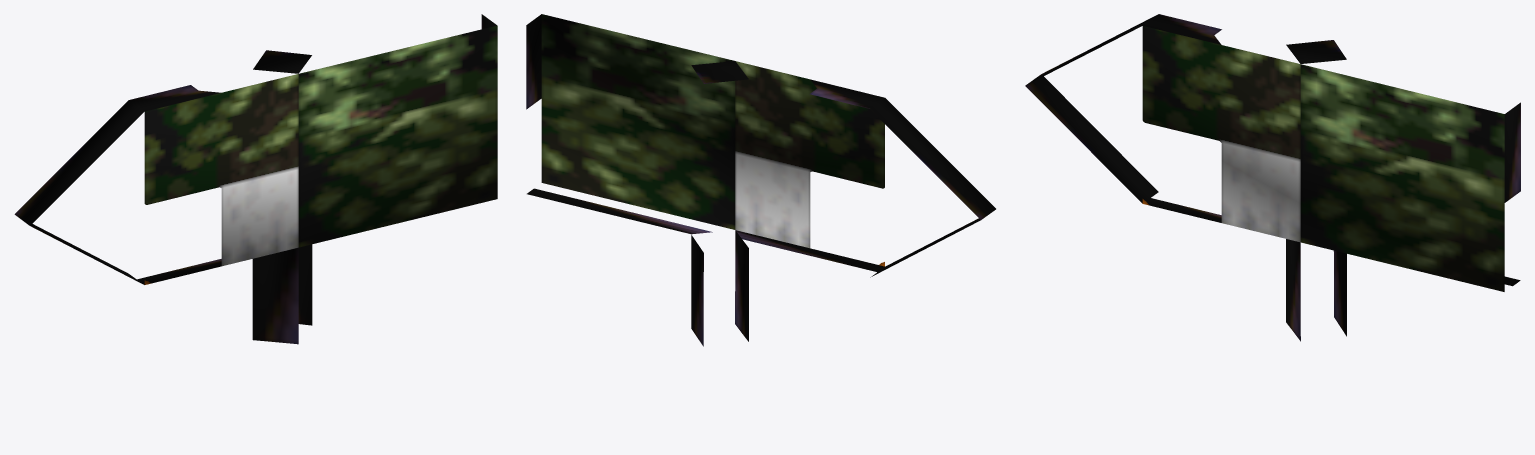
The picture shows the model from 3 angles, left to right: view 1: azimuth 30°, elevation 25°; view 2: azimuth 150°, elevation 25°; view 3: azimuth 330°, elevation 25°; orthographic projection. The views are drawn at different scales.
Parts seen in each view (by area): view 1: T1L6M006_4; view 2: T1L6M006_4; view 3: T1L6M006_4.
Boxes of the visible parts, x1=… form: T1L6M006_4: x1=14, y1=14, x2=497, y2=344; T1L6M006_4: x1=526, y1=14, x2=995, y2=346; T1L6M006_4: x1=1025, y1=14, x2=1520, y2=341.
Size of the model in its own units: 2.04 by 1.53 by 0.2441.
